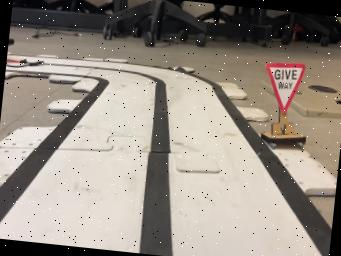give_way: (260, 62, 305, 150), (260, 62, 305, 150), (260, 62, 305, 150), (260, 62, 305, 150), (260, 62, 305, 150), (260, 62, 305, 150)
street: (0, 58, 331, 256), (0, 58, 331, 256), (0, 58, 331, 256), (0, 58, 331, 256), (0, 58, 331, 256), (0, 58, 331, 256)
